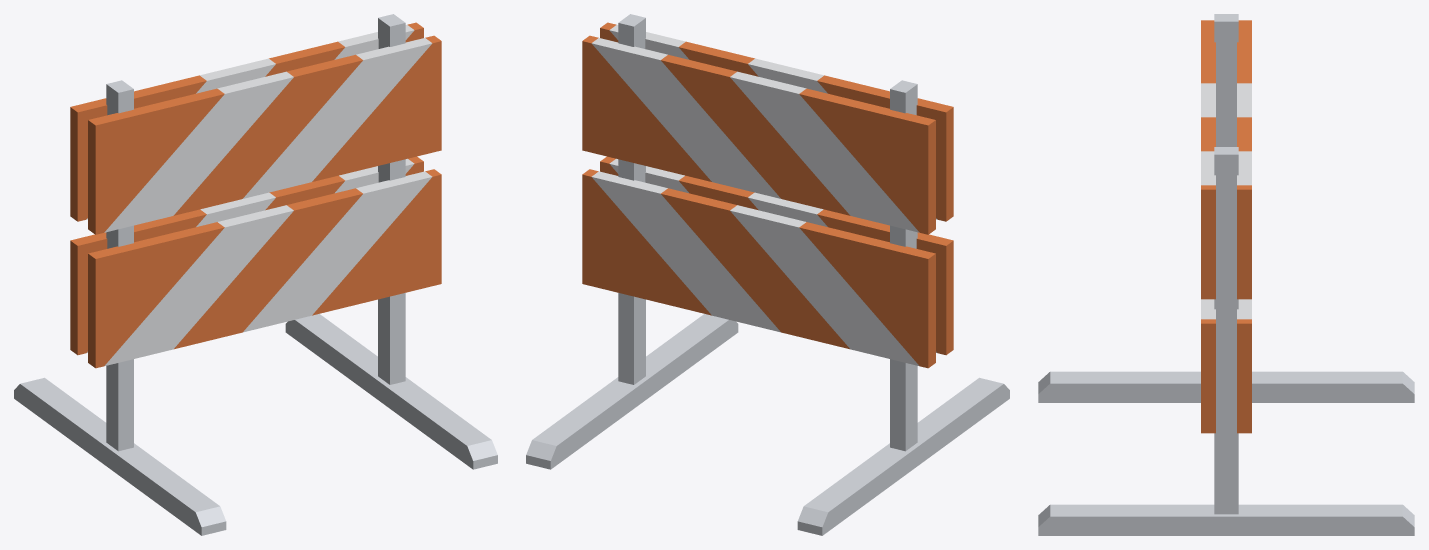
The model's file is Wood_Road_Block_Small_007.glb.
The picture shows the model from 3 angles, left to right: view 1: azimuth 30°, elevation 25°; view 2: azimuth 150°, elevation 25°; view 3: azimuth 270°, elevation 25°; orthographic projection.
Parts seen in each view (by area): view 1: Wood Road Block Small.007; view 2: Wood Road Block Small.007; view 3: Wood Road Block Small.007.
Boxes of the visible parts, x1,y1,x2,y2 form: Wood Road Block Small.007: (14, 14, 497, 535); Wood Road Block Small.007: (526, 14, 1009, 535); Wood Road Block Small.007: (1038, 14, 1414, 535).
Bounding box in the file's own units: 6.62 × 6.91 × 6.21.
1 material, 1 textured.
